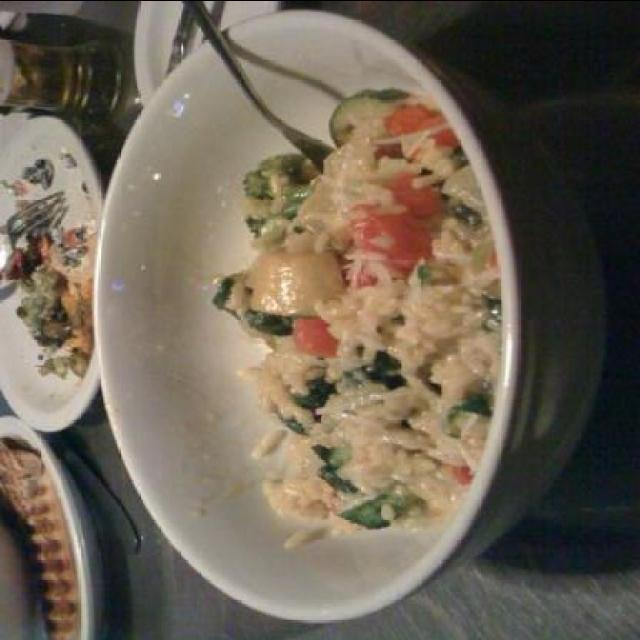Risotto: (217, 97, 537, 548)
